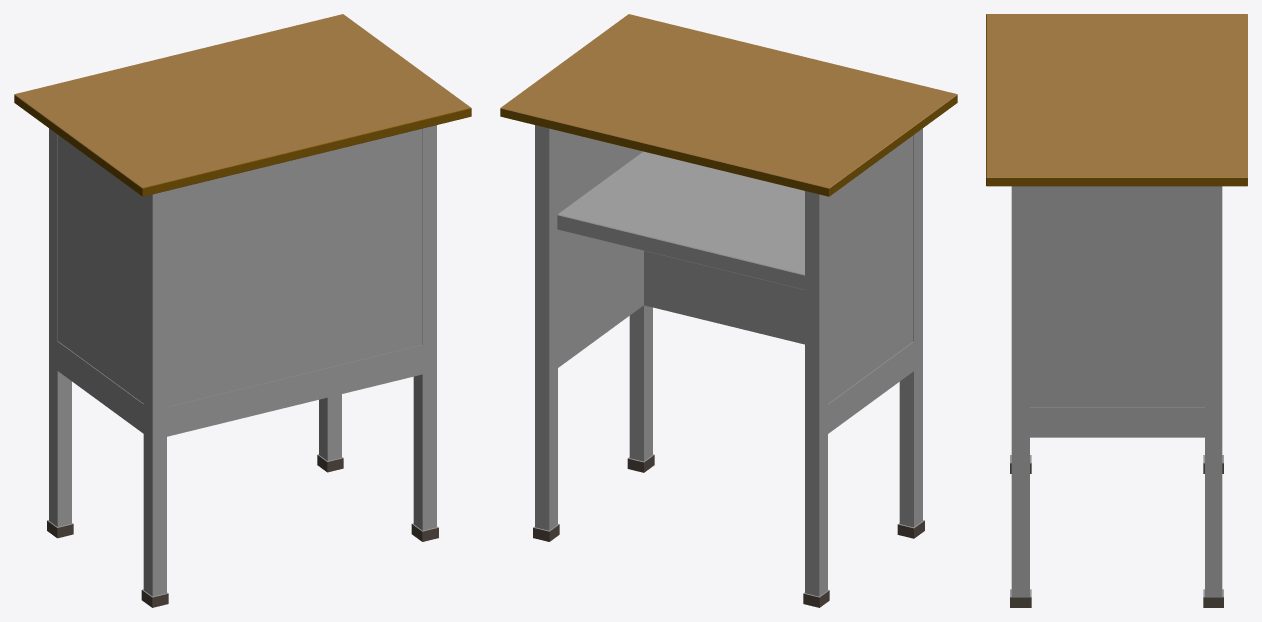
Rendered from kyoutaku.fbx.
The picture shows the model from 3 angles, left to right: view 1: azimuth 30°, elevation 25°; view 2: azimuth 150°, elevation 25°; view 3: azimuth 270°, elevation 25°; orthographic projection.
Visible parts, largest first — view 1: pCube1, pCube2; view 2: pCube1, pCube2, pCube3; view 3: pCube1, pCube2.
Boxes of the visible parts, x1=… form: pCube1: x1=47, y1=125, x2=438, y2=607; pCube2: x1=14, y1=14, x2=471, y2=196; pCube1: x1=533, y1=125, x2=924, y2=607; pCube2: x1=500, y1=14, x2=957, y2=196; pCube3: x1=557, y1=151, x2=804, y2=289; pCube1: x1=1010, y1=186, x2=1223, y2=607; pCube2: x1=986, y1=14, x2=1247, y2=186.
Bounding box in the file's own units: 2.43 × 3.06 × 1.64.
